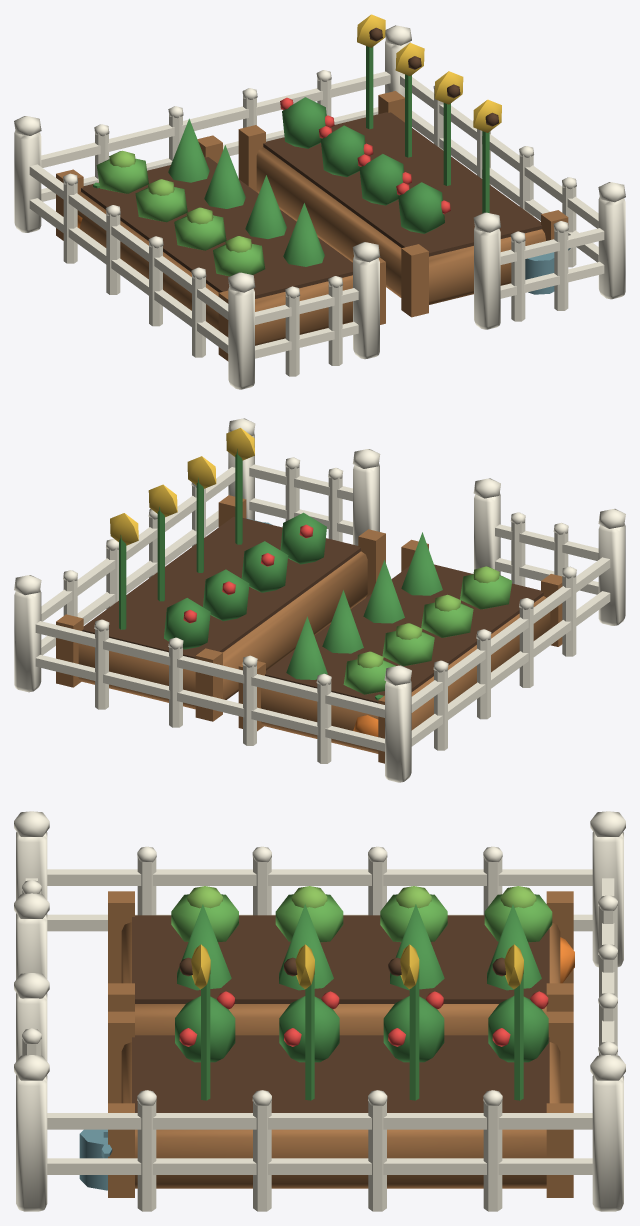
The model's file is v_garden.glb.
3 views of the same model, one above another, from view 1: azimuth 30°, elevation 25°; view 2: azimuth 150°, elevation 25°; view 3: azimuth 270°, elevation 25° (orthographic). The views are drawn at different scales.
Visible parts, largest first — view 1: Garden; view 2: Garden; view 3: Garden.
Boxes of the visible parts, box(x1,y1,x2,y2) form: Garden: box(14, 14, 625, 389); Garden: box(14, 418, 625, 782); Garden: box(14, 811, 625, 1211).
Size of the model in its own units: 2.94 by 1.18 by 2.93.
